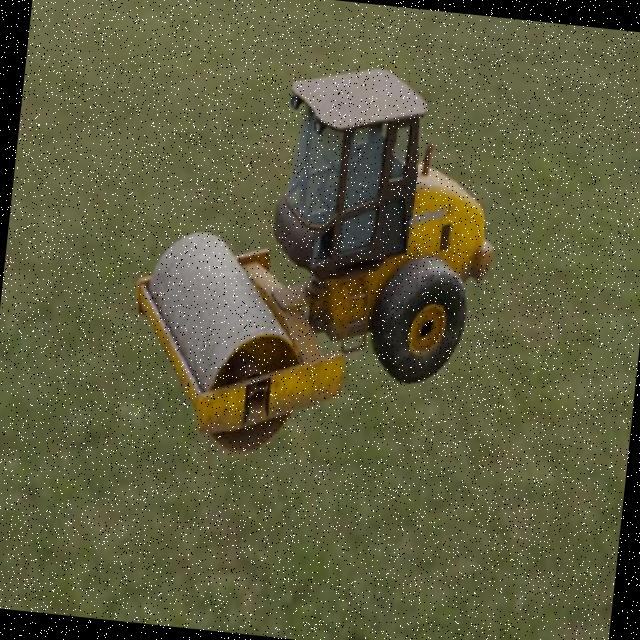Roller: (118, 44, 510, 478)
